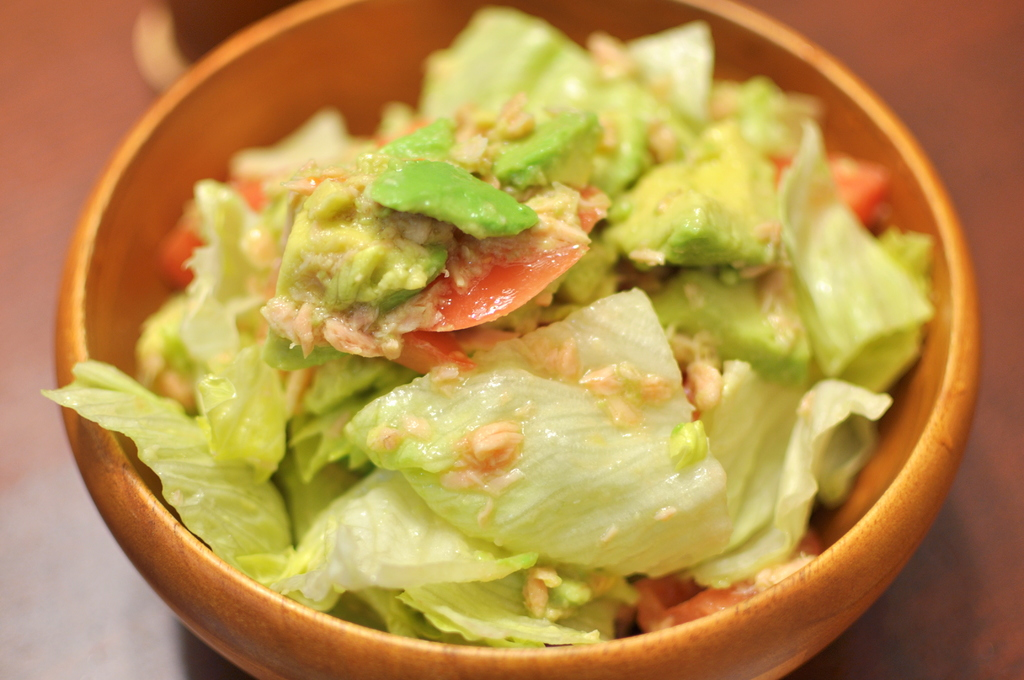salad: (36, 2, 930, 665)
